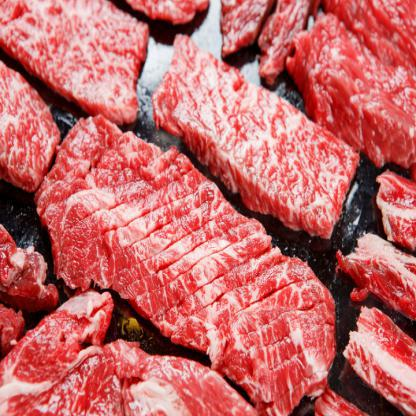beef: (61, 112, 326, 412), (168, 38, 346, 233)
